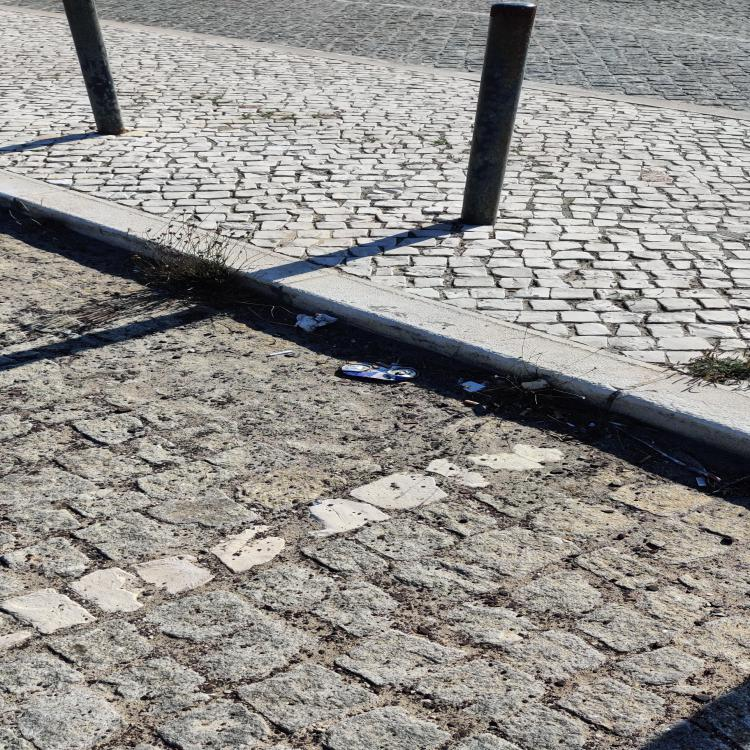Cigarette: (269, 350, 294, 356), (638, 455, 653, 464), (608, 421, 630, 427), (464, 399, 480, 406), (518, 408, 534, 415), (374, 362, 392, 368), (553, 411, 564, 419), (696, 478, 707, 486), (368, 362, 380, 368), (456, 378, 464, 385), (348, 362, 362, 364)
Drink can: (342, 362, 419, 380)
Normal paper: (458, 381, 486, 392), (523, 380, 551, 389)
Plastic film: (613, 417, 721, 482)
Pop tab: (398, 369, 415, 375)
